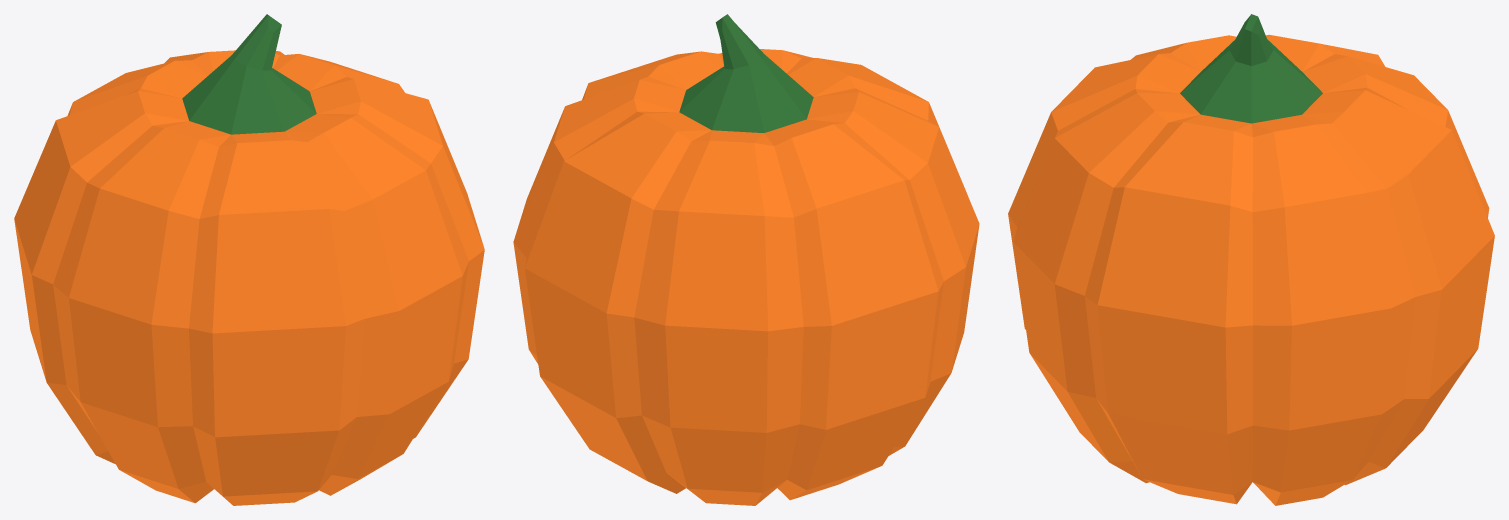
File: pumkin.glb
The picture shows the model from 3 angles, left to right: view 1: azimuth 30°, elevation 25°; view 2: azimuth 150°, elevation 25°; view 3: azimuth 270°, elevation 25°; orthographic projection. The views are drawn at different scales.
Visible parts, largest first — view 1: pumkin; view 2: pumkin; view 3: pumkin.
Part boxes in pixels (x1,y1,x2,y2): pumkin: [14, 14, 484, 505]; pumkin: [513, 14, 979, 505]; pumkin: [1008, 14, 1494, 505].
Size of the model in its own units: 0.6452 by 0.6575 by 0.6452.
1 material, 1 textured.
